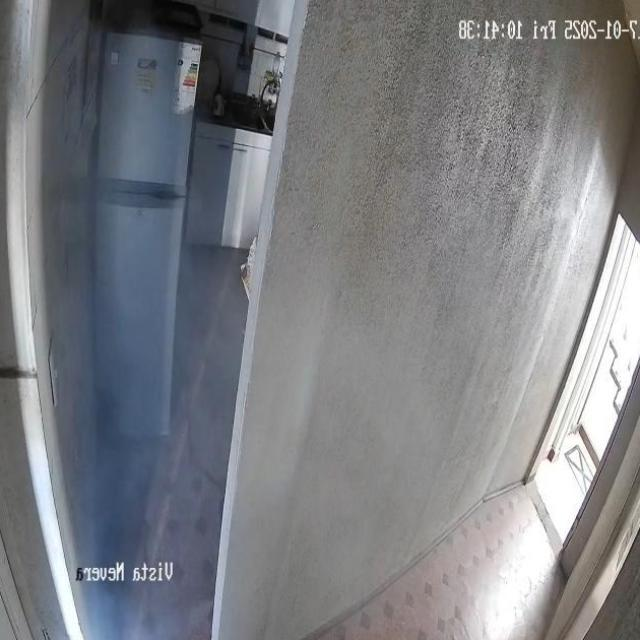fire: (62, 155, 251, 640)
